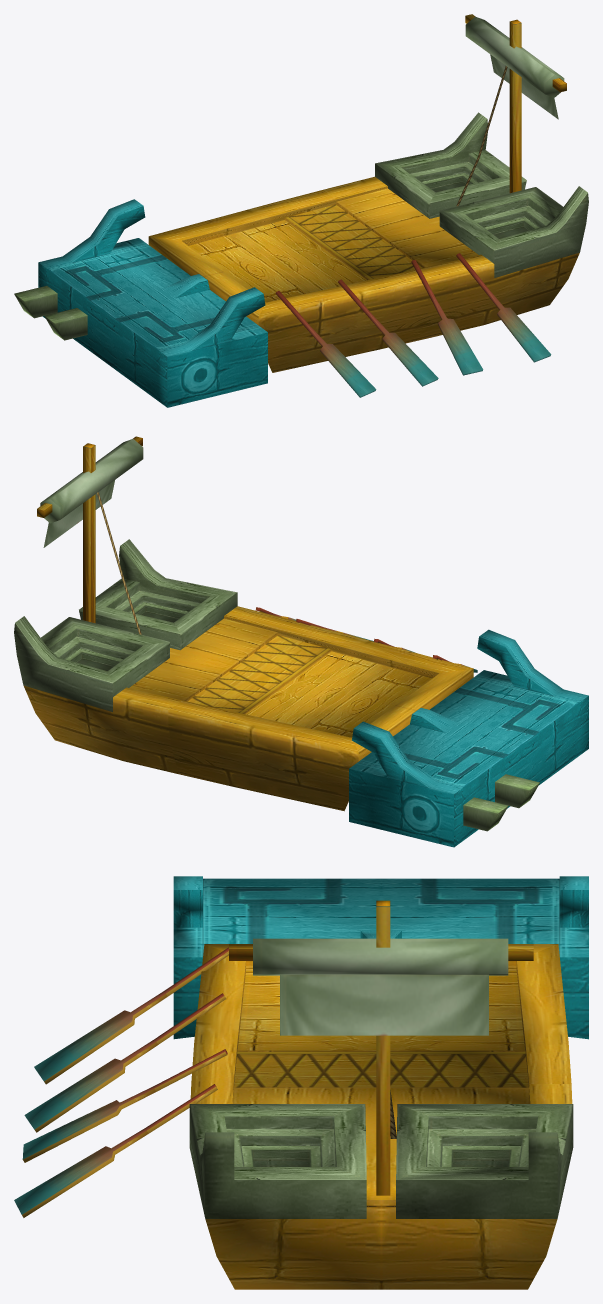
File: chuan4.FBX
3 renders of one model, top to bottom at view 1: azimuth 30°, elevation 25°; view 2: azimuth 150°, elevation 25°; view 3: azimuth 270°, elevation 25°, orthographic. The views are drawn at different scales.
Visible parts, largest first — view 1: Object028; view 2: Object028; view 3: Object028.
Boxes of the visible parts, x1=… form: Object028: x1=14, y1=14, x2=588, y2=407; Object028: x1=14, y1=436, x2=588, y2=847; Object028: x1=14, y1=876, x2=588, y2=1289.
Bounding box in the file's own units: 101462 × 51419 × 67722.
